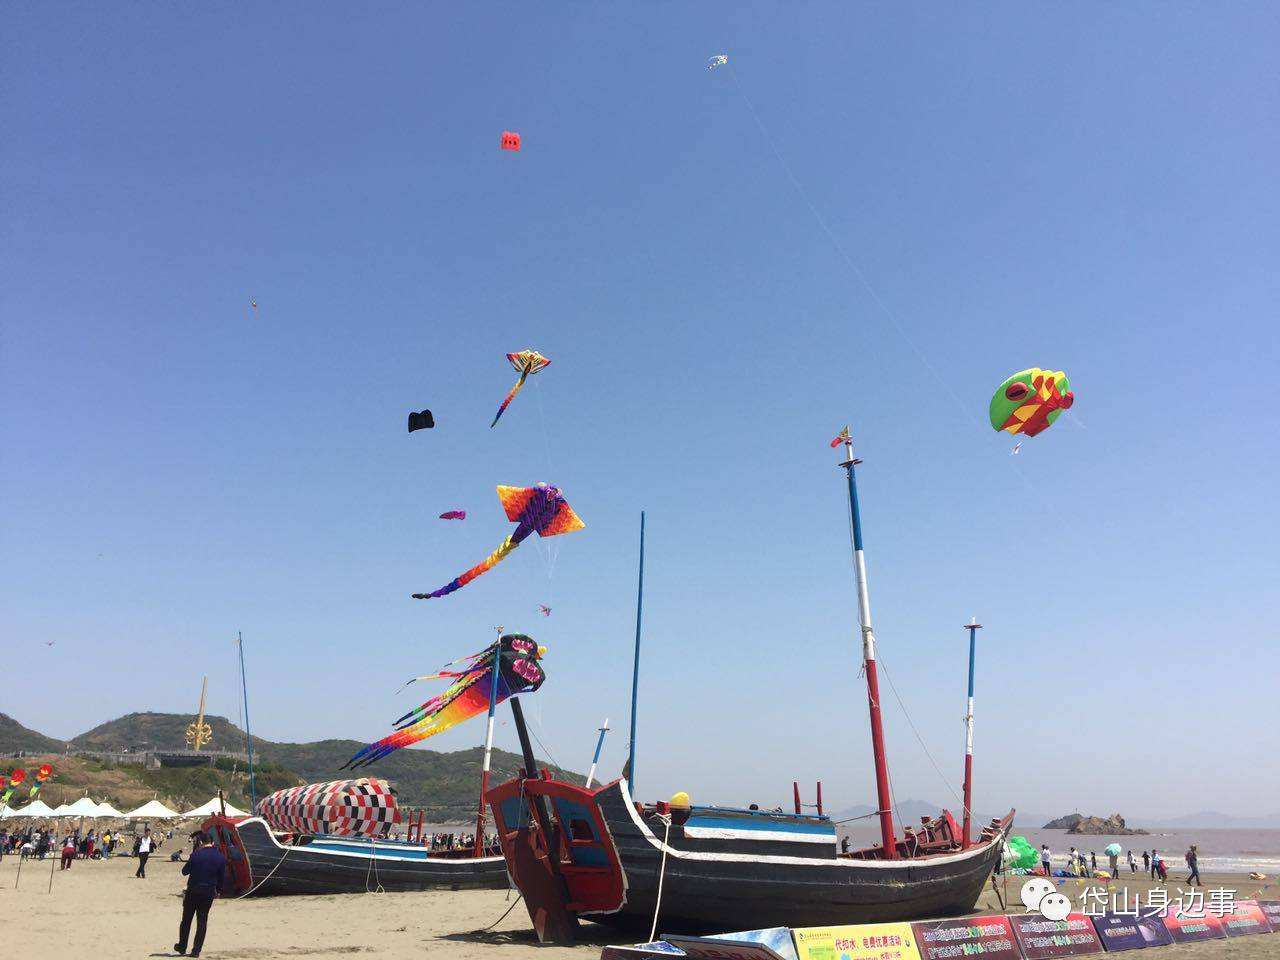kite: (349, 632, 551, 758), (412, 478, 589, 608), (986, 366, 1081, 452), (488, 347, 554, 432), (701, 45, 738, 76), (493, 126, 526, 157), (404, 407, 439, 437)
